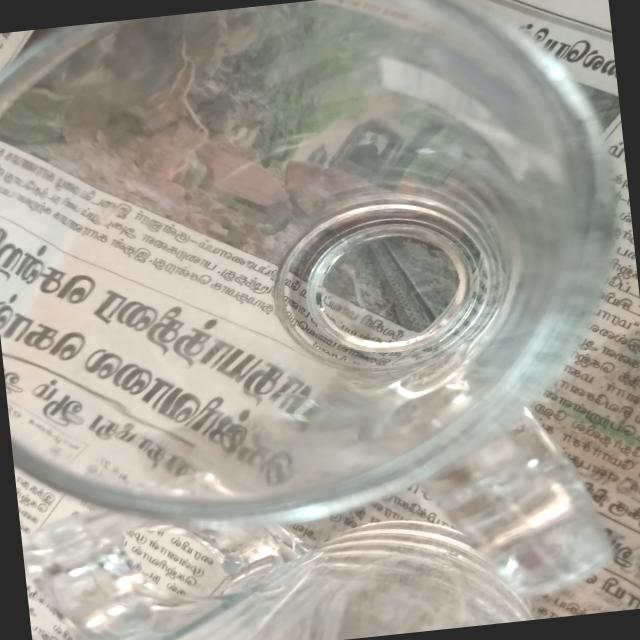glass-VX4N: (0, 0, 640, 640), (18, 464, 536, 640)
